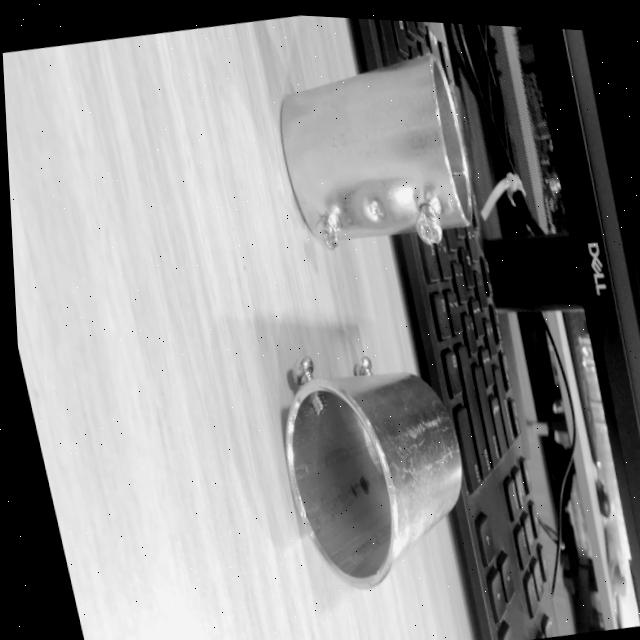Co_Lon: (260, 321, 488, 603)
Co_Nho: (268, 50, 486, 273)
